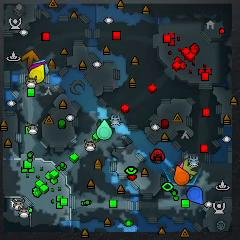p1: (187, 187, 204, 204)
p2: (97, 119, 111, 141)
p3: (29, 62, 46, 70)
p4: (29, 65, 45, 83)
p5: (173, 165, 190, 186)
x1: (178, 162, 184, 168)
x2: (184, 157, 197, 175)
x3: (34, 60, 49, 74)
x4: (98, 119, 114, 132)
x5: (22, 50, 39, 67)
